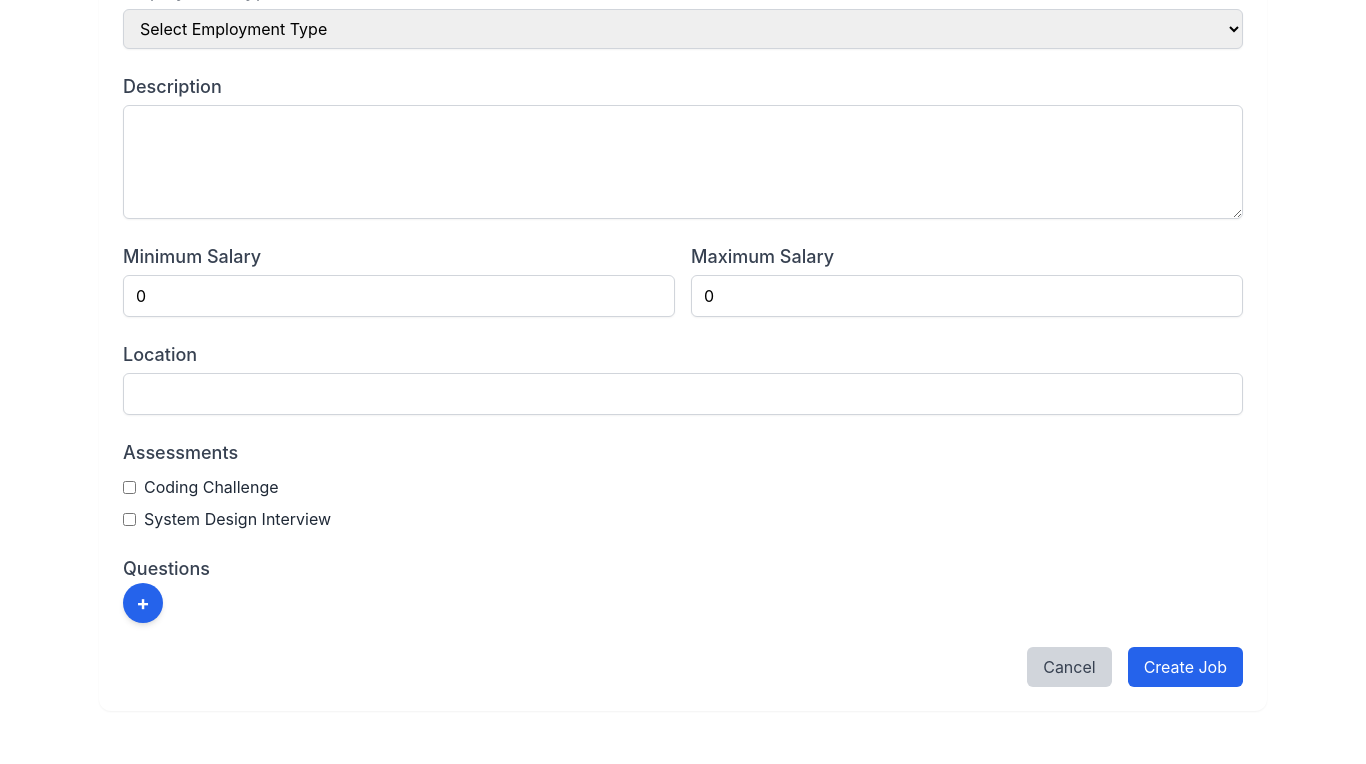
Test: CreateJobPost Component › should handle adding and removing questions
(page scrolled)
# Add a question
Click the button titled "Add Question" at (143, 603), box [123, 583, 163, 623]
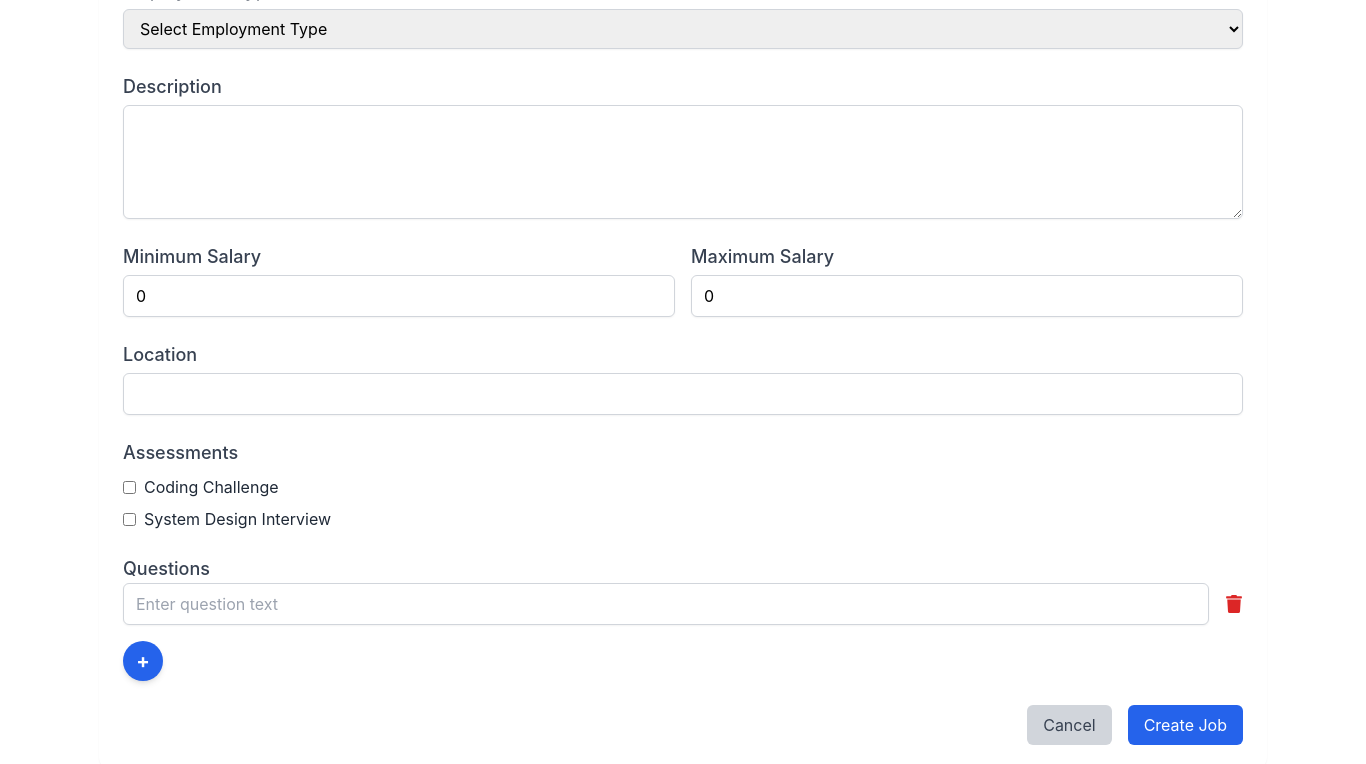
Result: the field with placeholder "Enter question text" is shown
# Set question text
Type "What is your greatest achievement?" into the field with placeholder "Enter question text" at (666, 604), box [123, 583, 1209, 625]
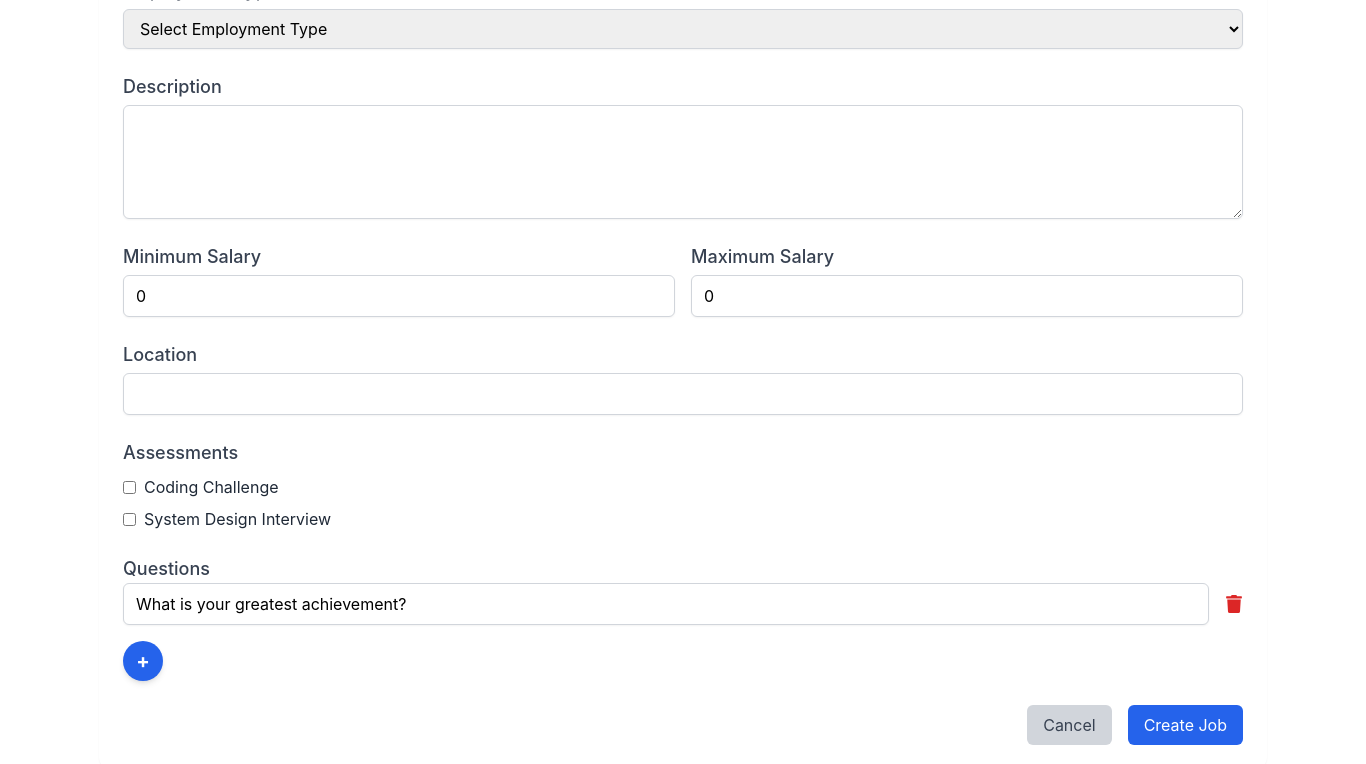
# Add another question
Click the button titled "Add Question" at (143, 661), box [123, 641, 163, 681]
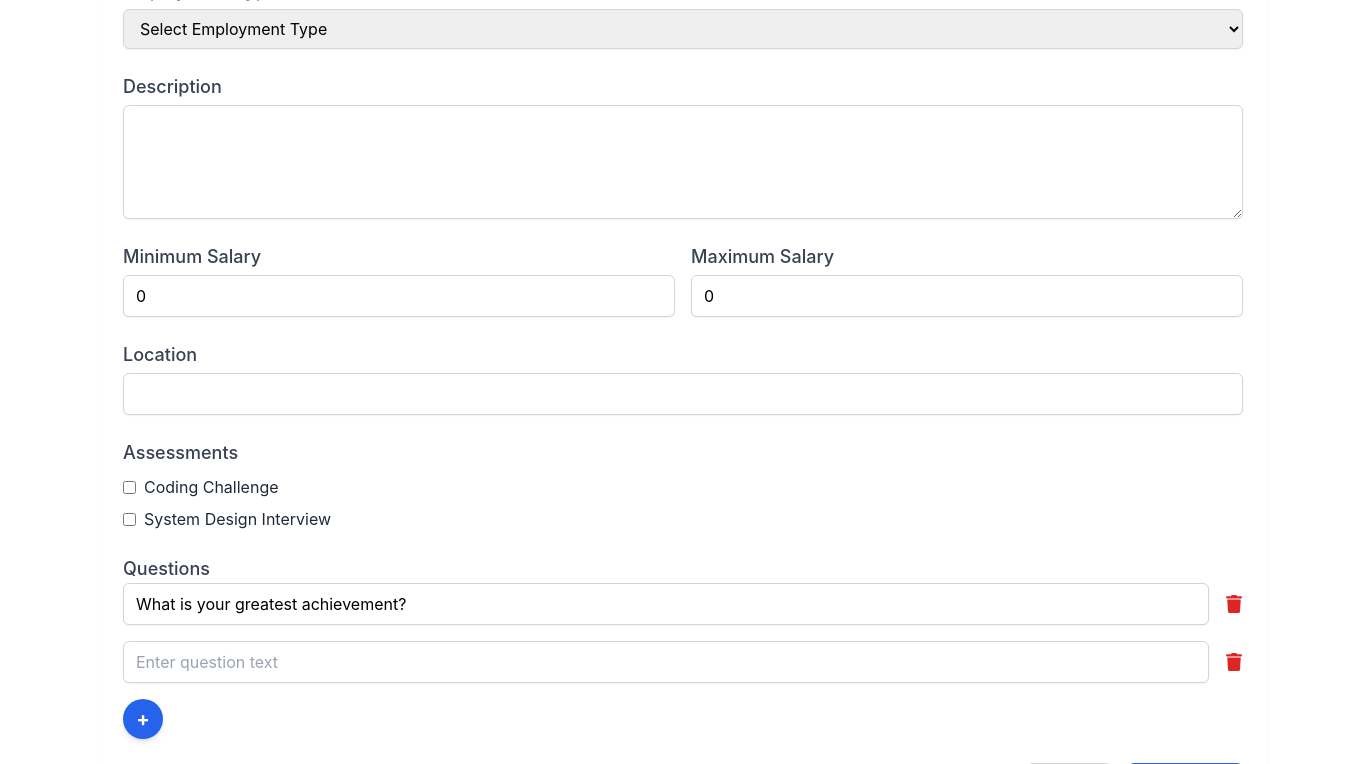
Result: the number of fields with placeholder "Enter question text" is 2
# Set text for second question
Type "Why do you want to work here?" into the field with placeholder "Enter question text" at (666, 662), box [123, 641, 1209, 683]
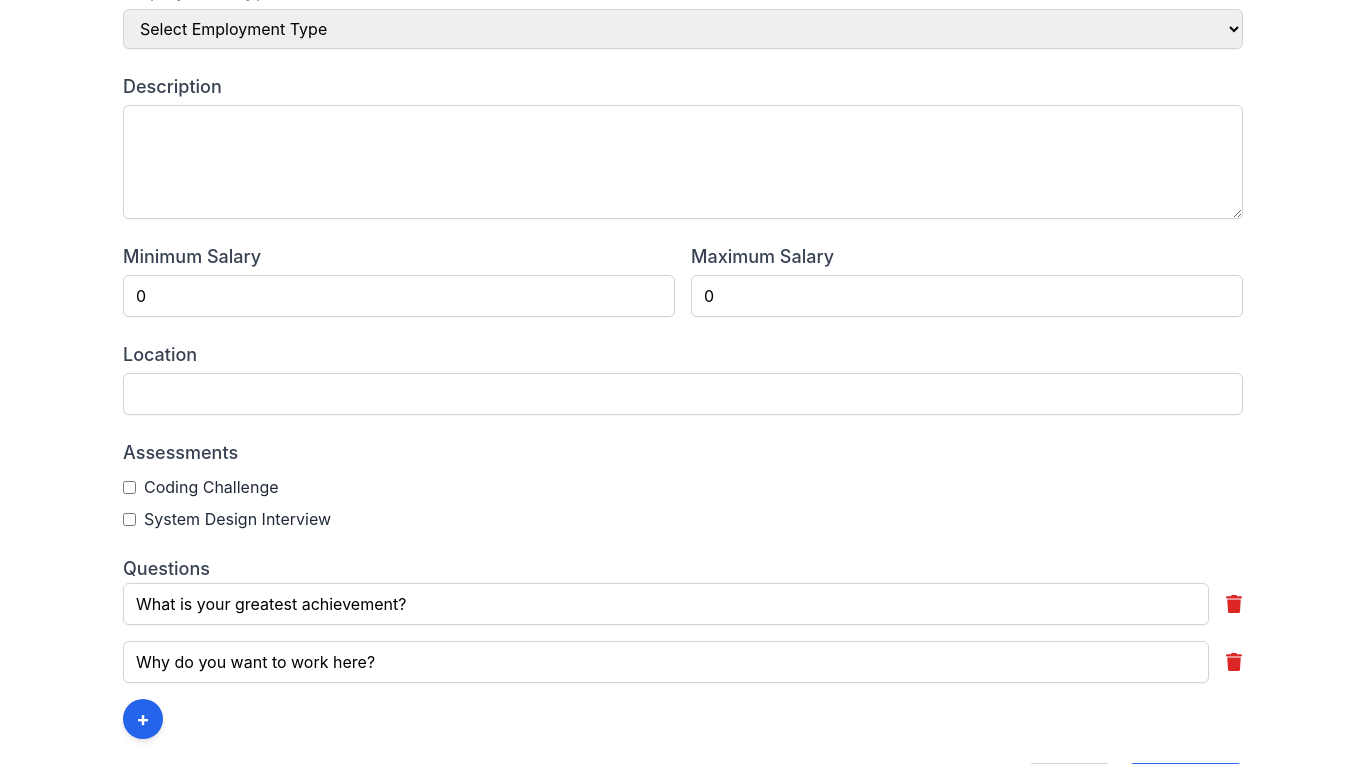
# Remove a question
Click the 1st button titled "Delete Question" at (1234, 604), box [1225, 595, 1243, 613]
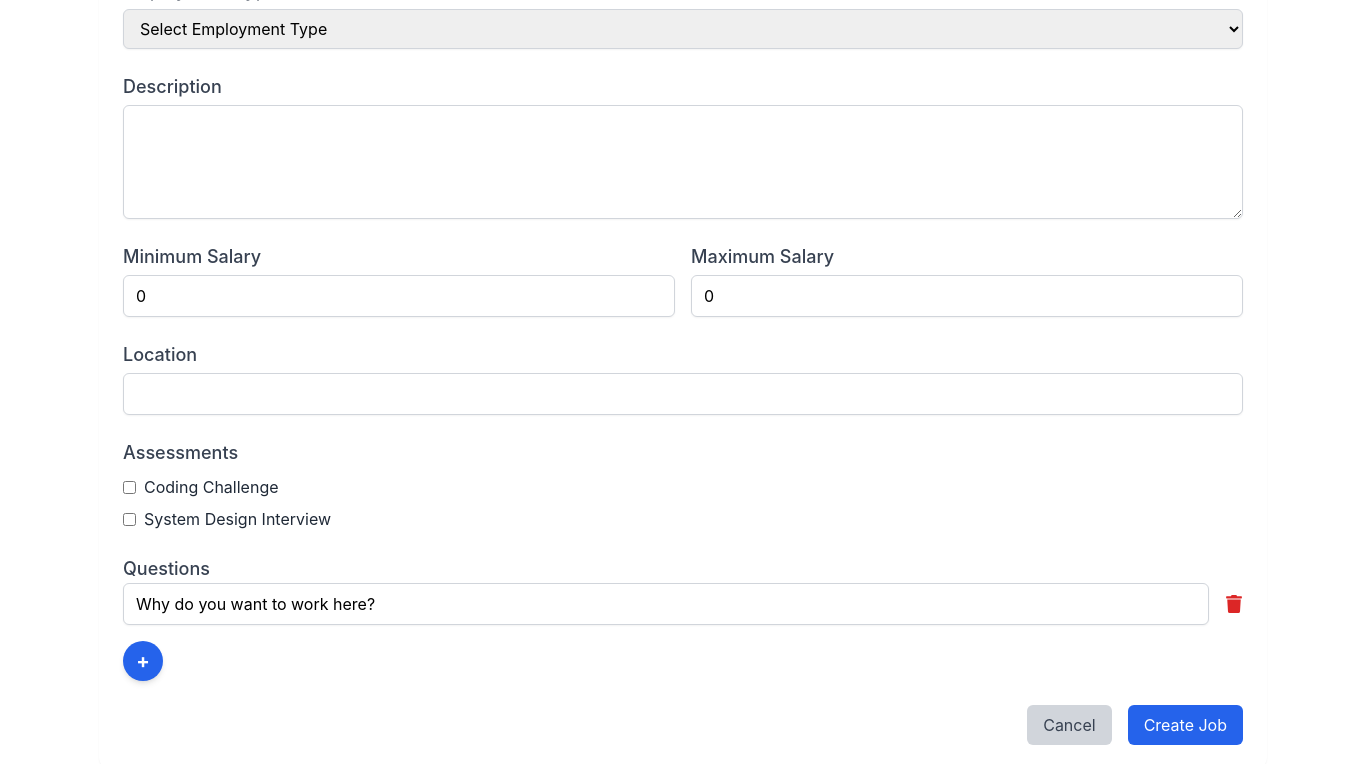
Result: the number of fields with placeholder "Enter question text" is 1 at [123, 583, 1209, 625]
Result: the field with placeholder "Enter question text" holds "Why do you want to work here?" at [123, 583, 1209, 625]
